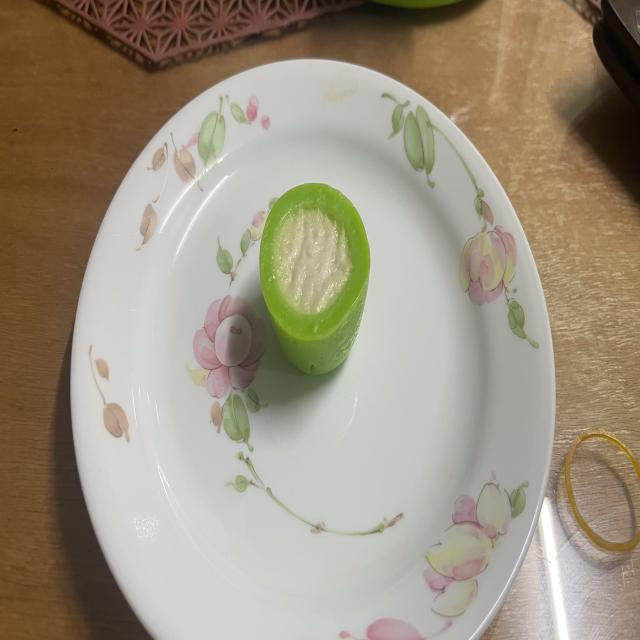nona-manis: (260, 182, 370, 373)
